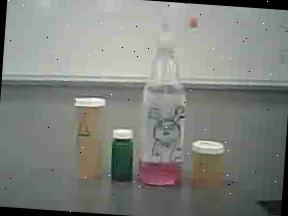Bottle A: (64, 86, 111, 184)
Bottle B: (188, 132, 231, 198)
Bottle C: (106, 117, 144, 189)
hazard: (138, 6, 202, 191)
